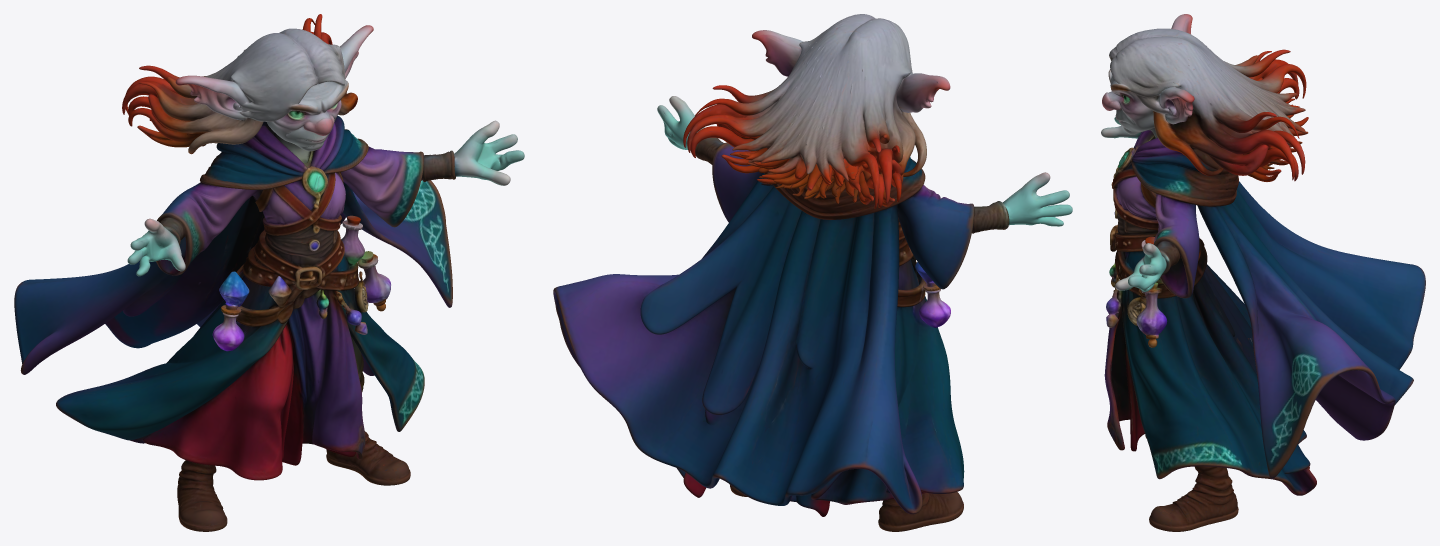
Rendered from gnome_sorcerer_full_female_01.glb.
The picture shows the model from 3 angles, left to right: view 1: azimuth 30°, elevation 25°; view 2: azimuth 150°, elevation 25°; view 3: azimuth 270°, elevation 25°; orthographic projection. The views are drawn at different scales.
Visible parts, largest first — view 1: material; view 2: material; view 3: material.
Part boxes in pixels (bbox=[...]): material: bbox=[14, 14, 524, 531]; material: bbox=[553, 14, 1072, 531]; material: bbox=[1101, 14, 1425, 531].
Bounding box in the file's own units: 0.9239 × 0.9897 × 0.6586.
1 material, 1 textured.
